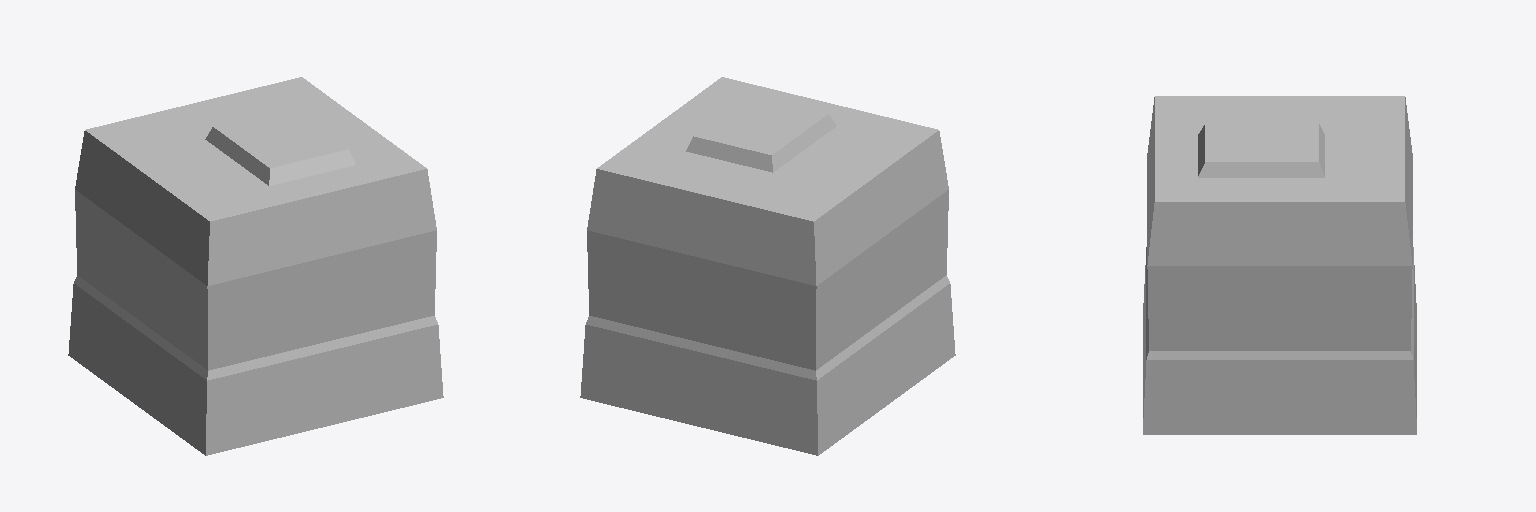
Rendered from flat2.obj.
3 views of the same model, side by side, from view 1: azimuth 30°, elevation 25°; view 2: azimuth 150°, elevation 25°; view 3: azimuth 270°, elevation 25° (orthographic).
Bounding box in the file's own units: 1.09 × 1.06 × 1.09.